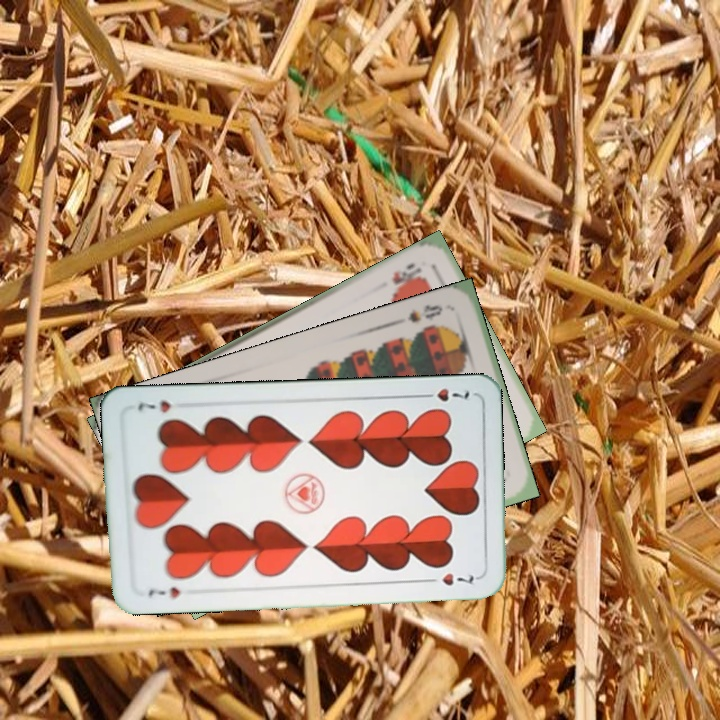H7: (416, 384, 472, 404), (144, 582, 182, 603)
HO: (387, 258, 425, 288)
S8: (403, 301, 445, 326)
